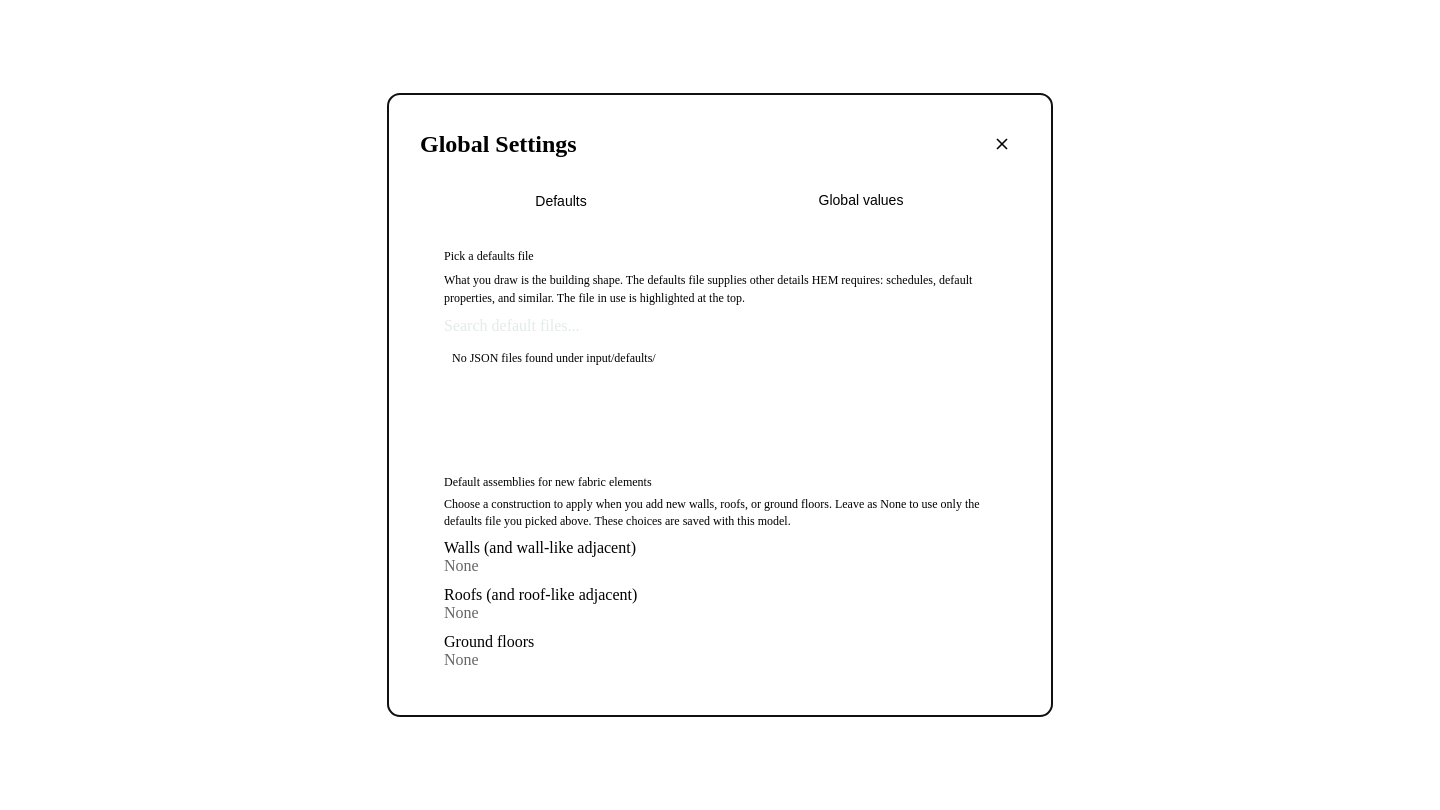
Scenario: GlobalSettingsModal › keeps global values usable when the Community host has no implicit defaults file
The width and height of the screenshot is (1440, 810).
Check: the text "No JSON files found under input/defaults/" is shown, box [452,351,656,365]
Click the tab "Global values".
click(870, 202)  # box [720,182,1020,221]
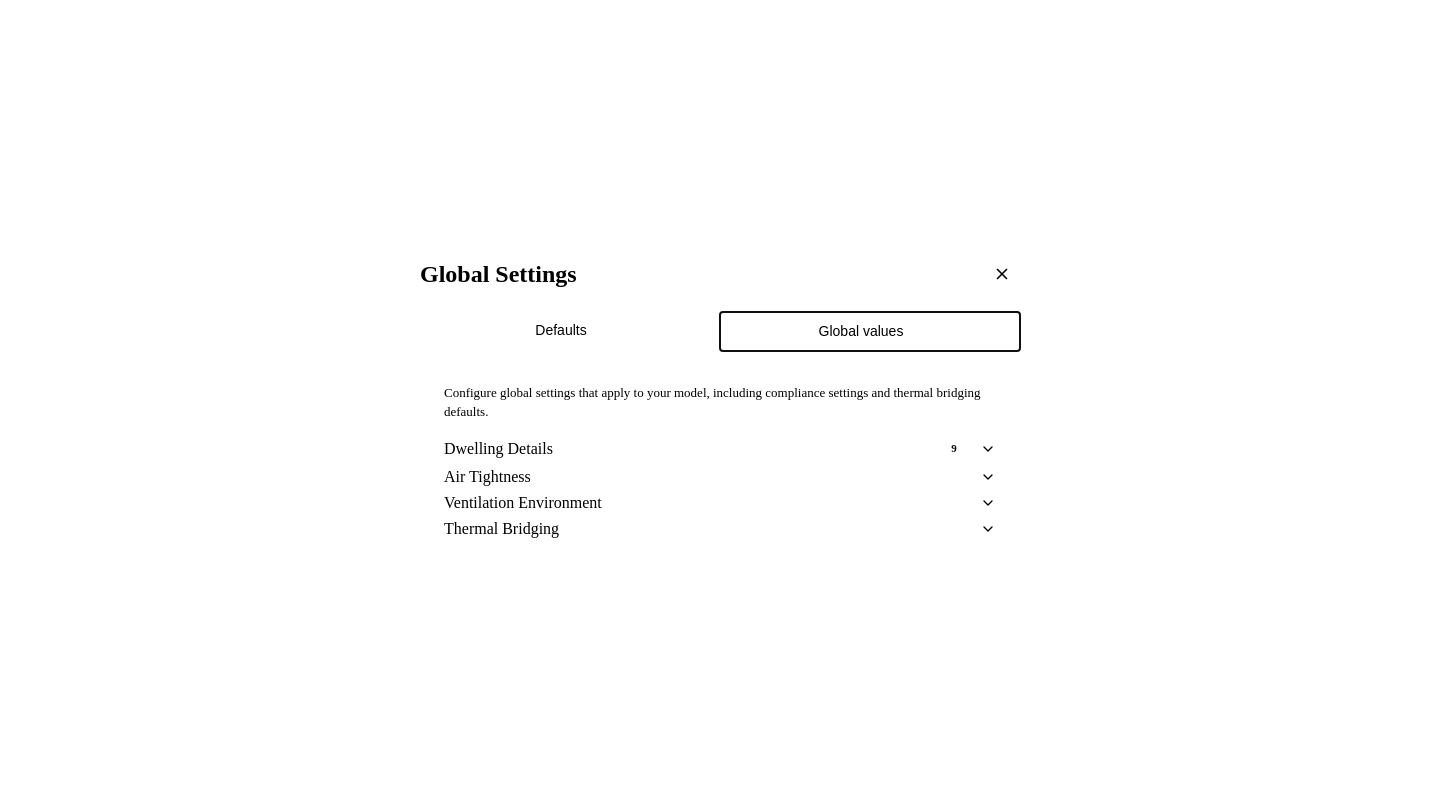
Check: the text "Dwelling Details" is shown, box [444,440,553,457]
